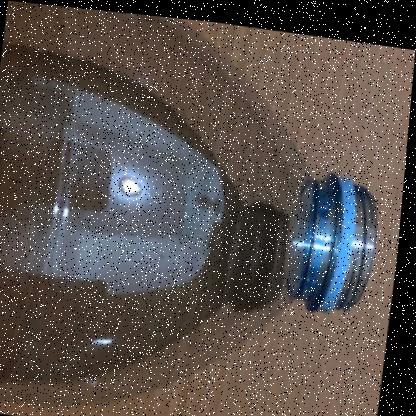open bottle: (1, 3, 416, 416)
